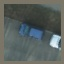car: (16, 22, 44, 41)
